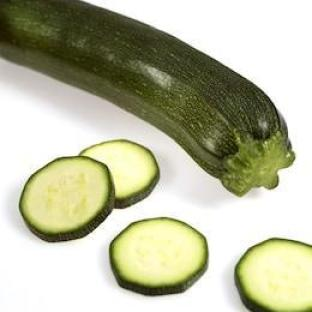Zucchini: (21, 156, 113, 242), (110, 218, 207, 295), (236, 239, 311, 311), (81, 140, 159, 207)
